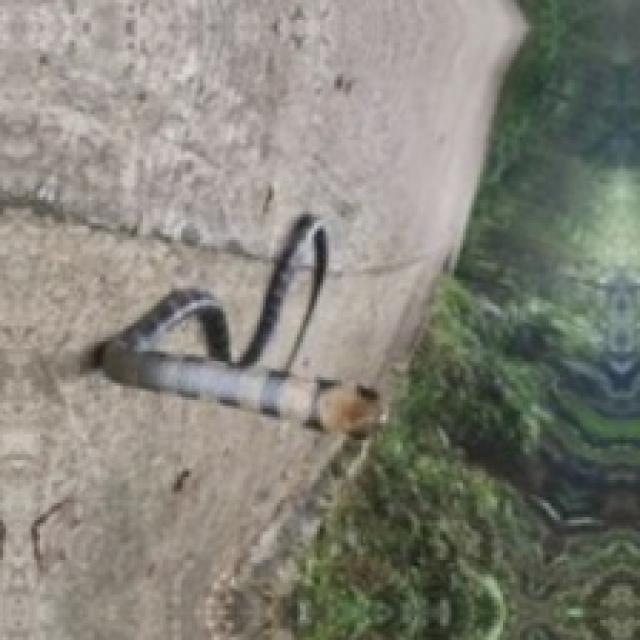king cobra: (91, 214, 380, 437)
